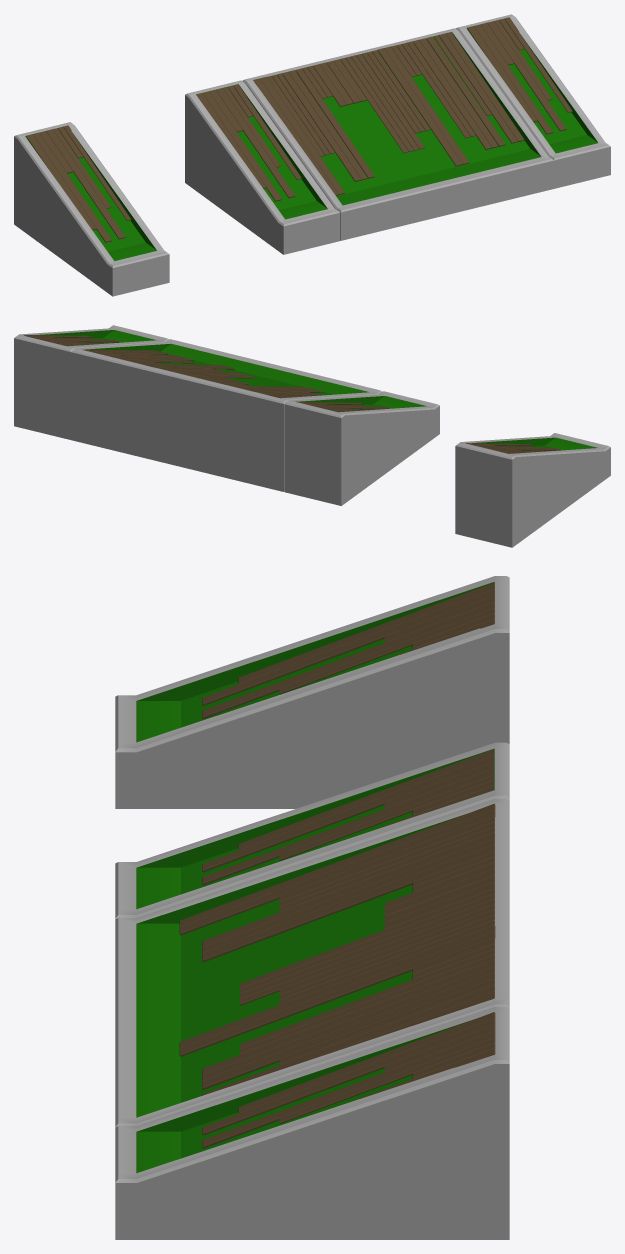
File: Plants_box.fbx
3 renders of one model, top to bottom at view 1: azimuth 30°, elevation 25°; view 2: azimuth 150°, elevation 25°; view 3: azimuth 270°, elevation 25°, orthographic. The views are drawn at different scales.
Visible parts, largest first — view 1: polySurface2526, A_roof_1x4x8_50, A_roof_1x4x8_48, A_roof_1x4x8_54, A_roof_1x4x8_55; view 2: A_roof_1x4x8_50, A_roof_1x4x8_48, A_roof_1x4x8_54, A_roof_1x4x8_55, polySurface2526; view 3: polySurface2526, A_roof_1x4x8_55, A_roof_1x4x8_54, A_roof_1x4x8_50, A_roof_1x4x8_48.
Boxes of the visible parts, x1,y1,x2,y2 form: polySurface2526: (26,17,572,242); A_roof_1x4x8_50: (242,28,553,240); A_roof_1x4x8_48: (185,80,340,254); A_roof_1x4x8_54: (14,122,169,296); A_roof_1x4x8_55: (455,14,610,188); A_roof_1x4x8_50: (71,339,382,491); A_roof_1x4x8_48: (284,391,439,505); A_roof_1x4x8_54: (455,433,610,547); A_roof_1x4x8_55: (14,325,169,439); polySurface2526: (24,335,560,453); polySurface2526: (179,582,495,1148); A_roof_1x4x8_55: (115,1007,509,1239); A_roof_1x4x8_54: (115,576,509,808); A_roof_1x4x8_50: (115,799,509,1127); A_roof_1x4x8_48: (115,742,509,919).
Bounding box in the file's own units: 350 × 60.48 × 120.
